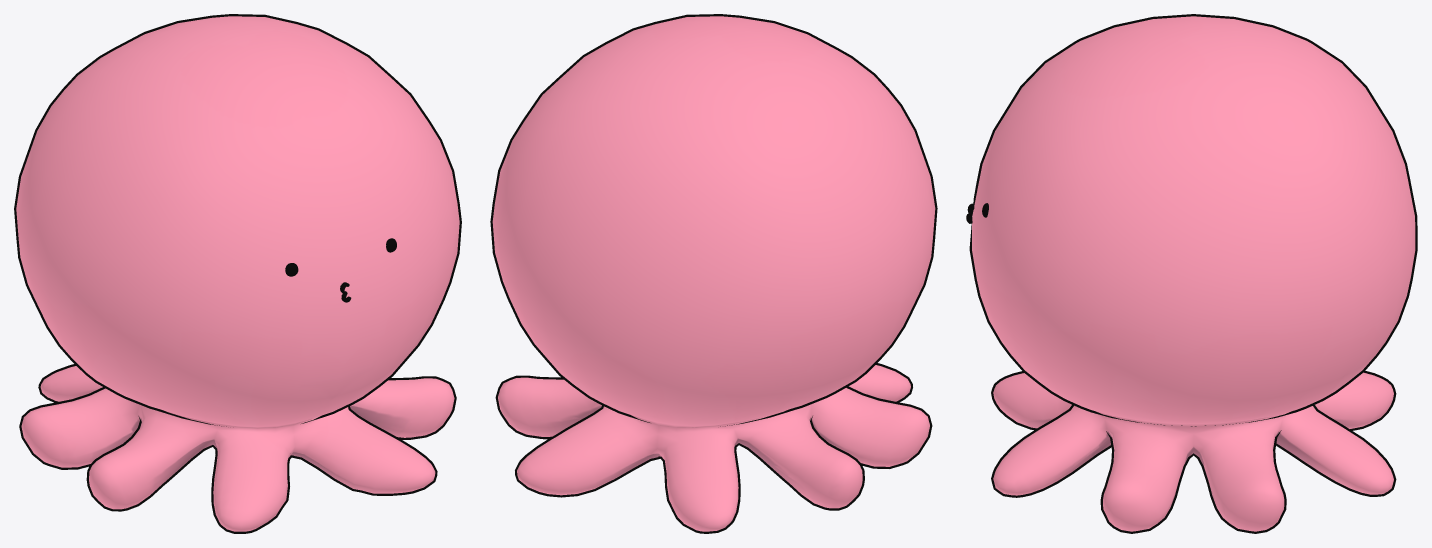
The model's file is takopis_original_sin-__-_takopi.glb.
3 views of the same model, side by side, from view 1: azimuth 30°, elevation 25°; view 2: azimuth 150°, elevation 25°; view 3: azimuth 270°, elevation 25° (orthographic).
Visible parts, largest first — view 1: Cube; view 2: Cube; view 3: Cube.
Part boxes in pixels (x1,y1,x2,y2): Cube: [14, 14, 461, 533]; Cube: [490, 14, 937, 533]; Cube: [969, 14, 1417, 533].
Bounding box in the file's own units: 0.5911 × 0.6067 × 0.5897.
2 materials, 1 textured.
